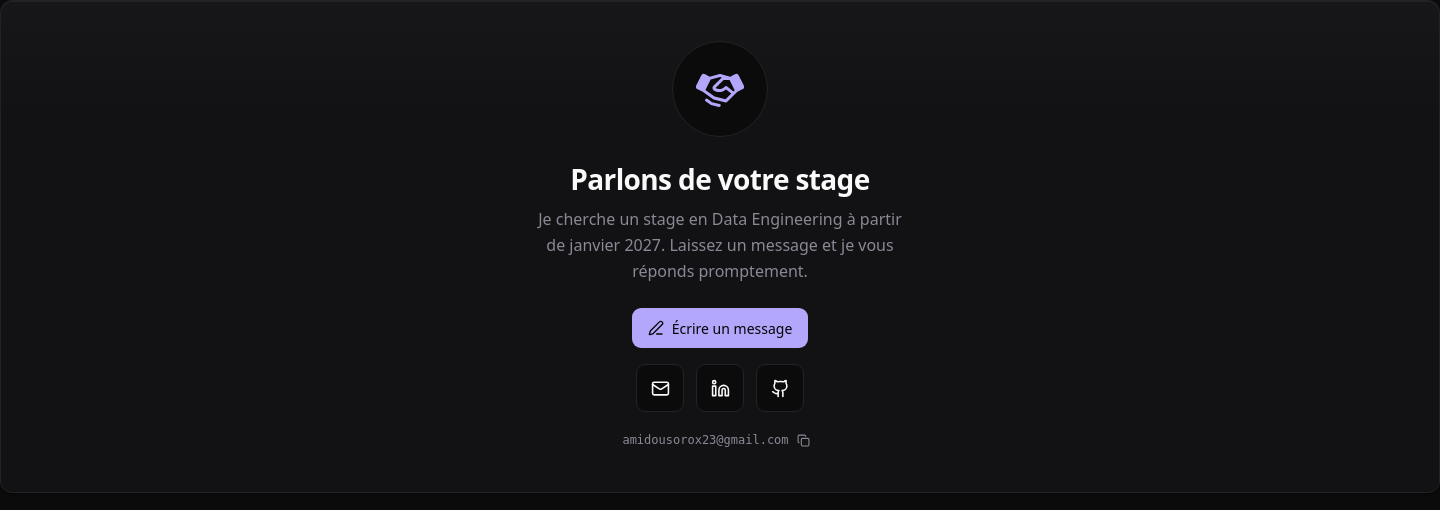
it: Contact › copie l'adresse email et le confirme
Click the button "amidousorox23@gmail.com": (720, 440) [614,428,826,452]
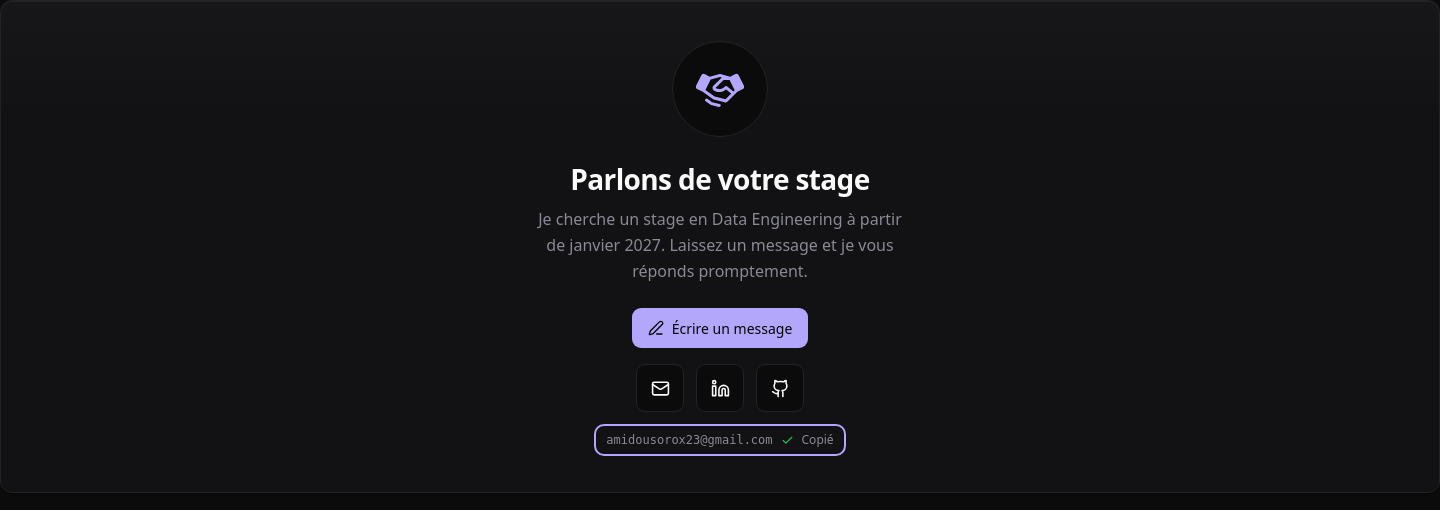
Check: the text "Copié" is shown, box [802,432,834,448]
